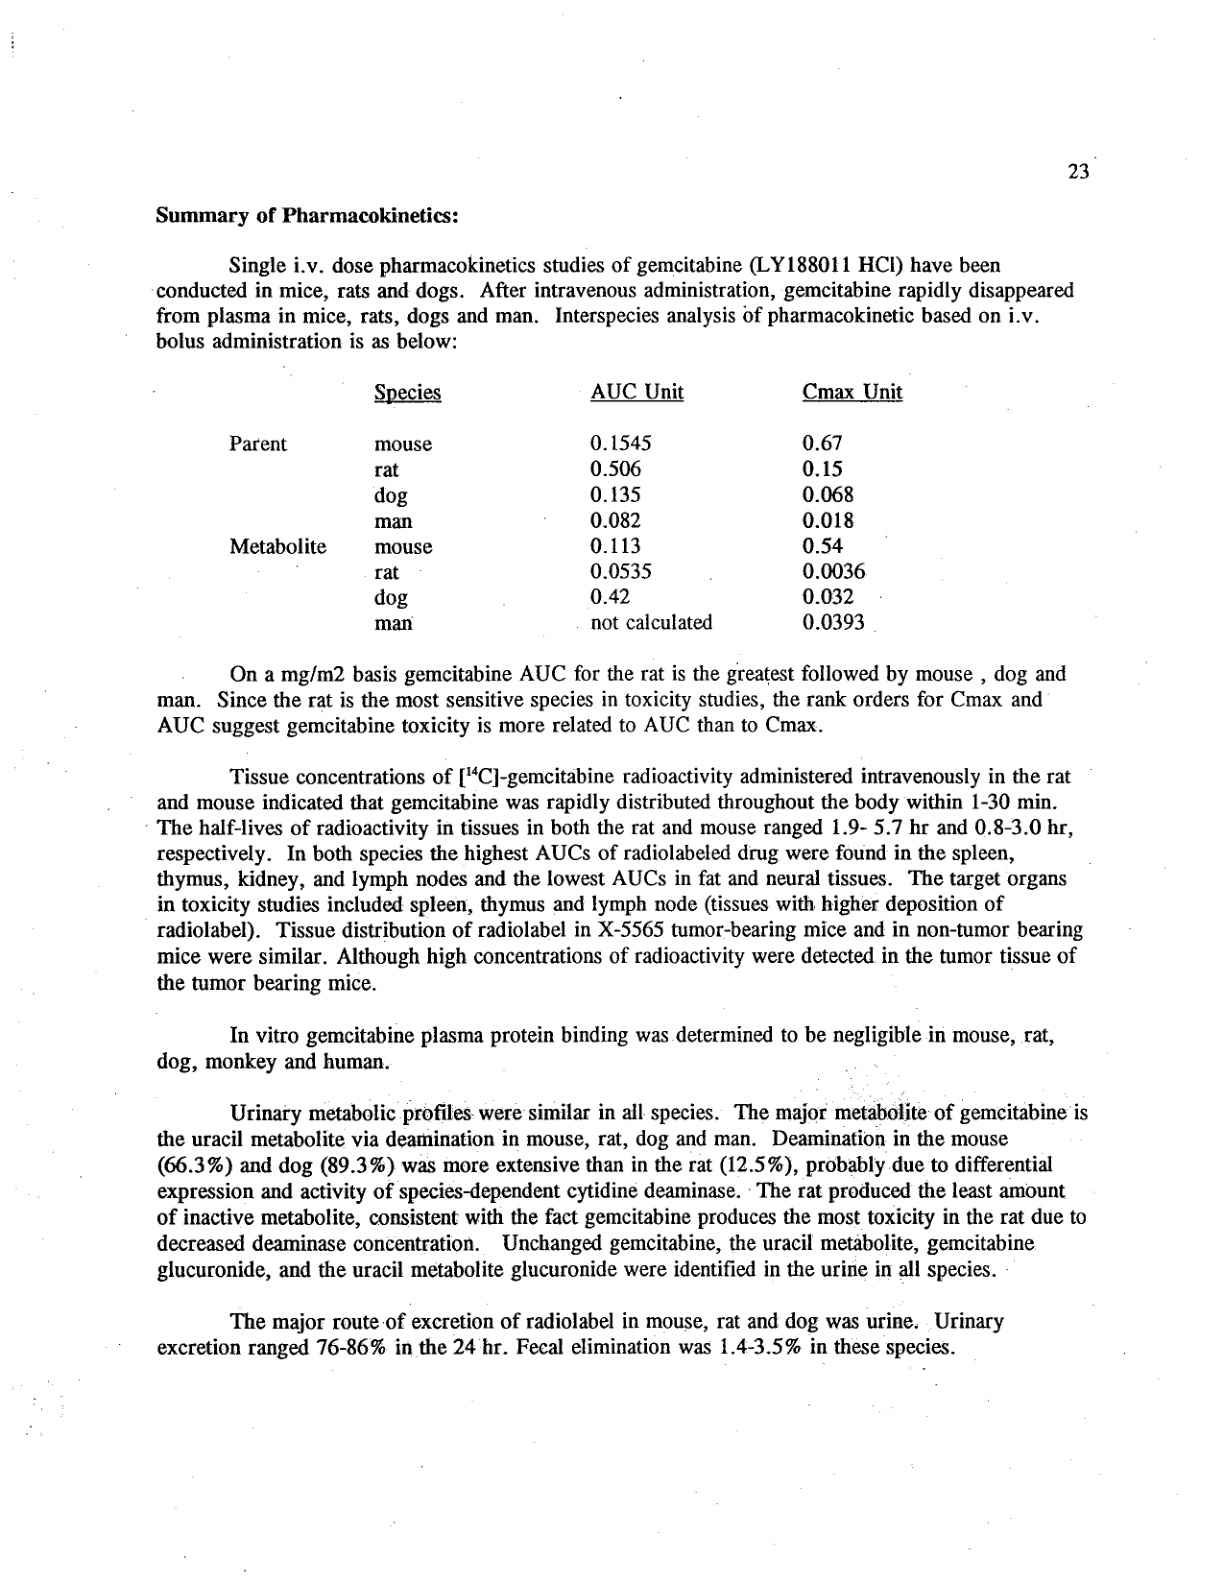nolines: (229, 383, 905, 634)
